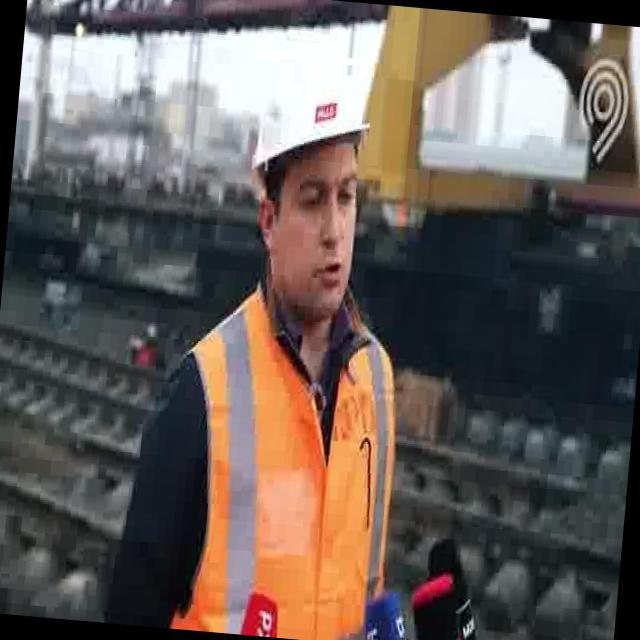Helmet: (248, 50, 377, 186)
Human: (124, 49, 437, 640)
Safety Vest: (153, 266, 414, 640)
